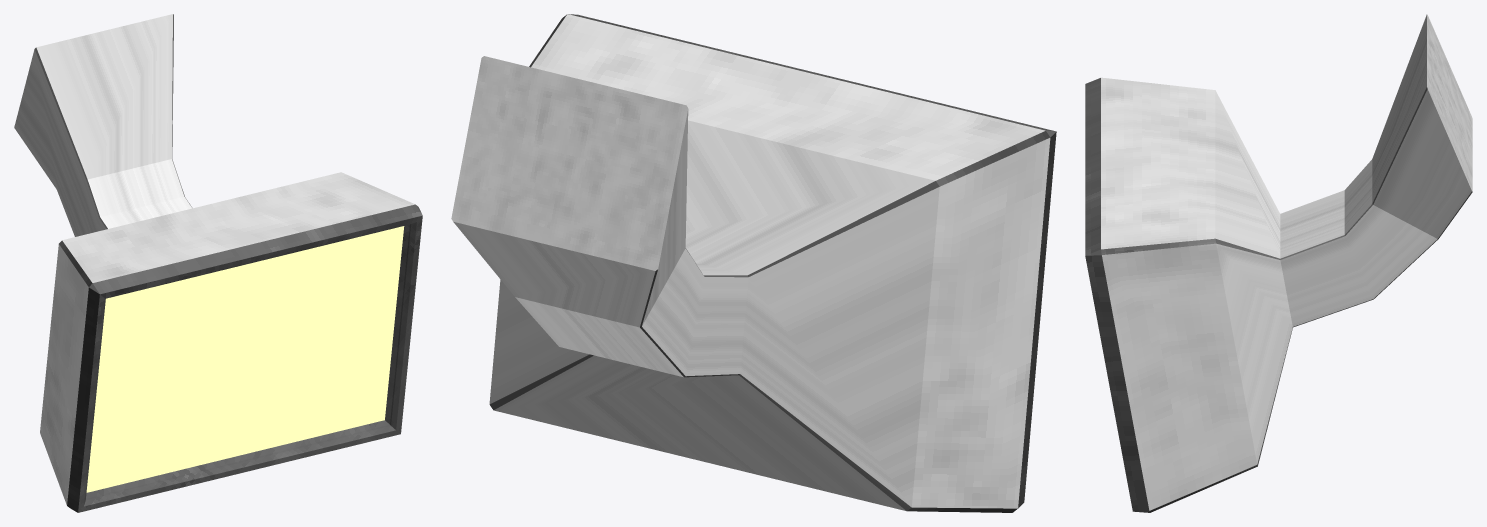
Rendered from roof_monitor.glb.
The picture shows the model from 3 angles, left to right: view 1: azimuth 30°, elevation 25°; view 2: azimuth 150°, elevation 25°; view 3: azimuth 270°, elevation 25°; orthographic projection. The views are drawn at different scales.
Visible parts, largest first — view 1: Roof Monitor; view 2: Roof Monitor; view 3: Roof Monitor.
Boxes of the visible parts, x1,y1,x2,y2 form: Roof Monitor: (14,14,422,512); Roof Monitor: (451,14,1056,512); Roof Monitor: (1085,14,1472,512).
Size of the model in its own units: 0.8213 by 0.822 by 0.7665.
3 materials, 2 textured.
